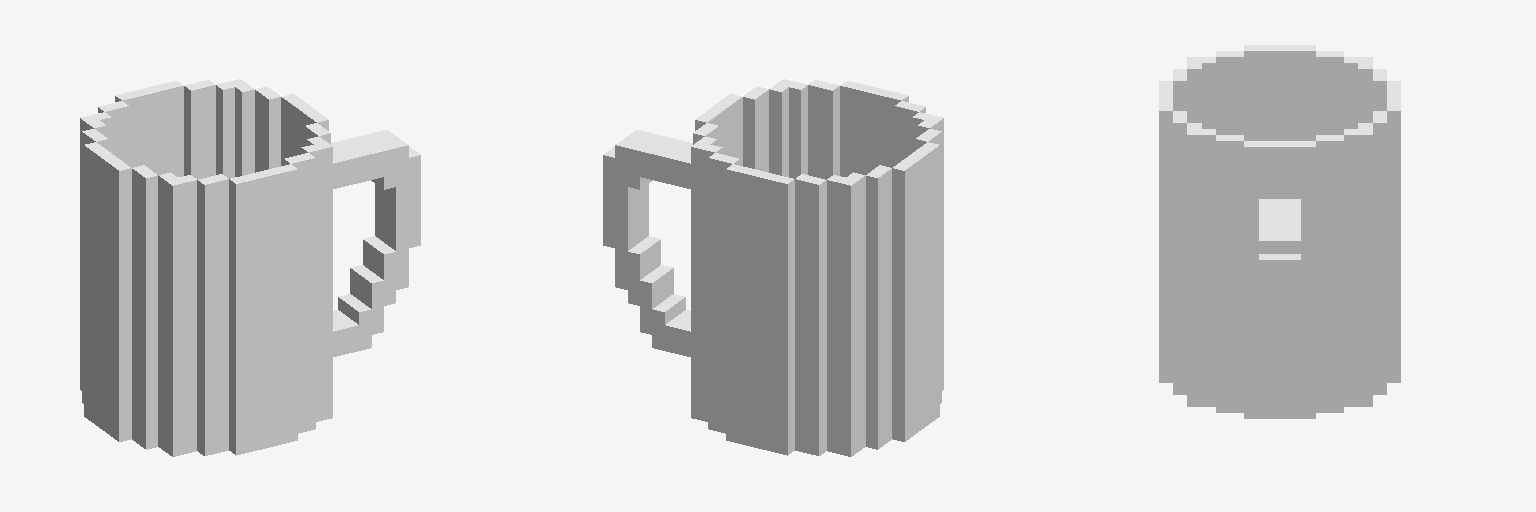
The picture shows the model from 3 angles: view 1: azimuth 30°, elevation 25°; view 2: azimuth 150°, elevation 25°; view 3: azimuth 270°, elevation 25°; orthographic projection.
Visible parts, largest first — view 1: object 1; view 2: object 1; view 3: object 1.
Boxes of the visible parts, x1=… form: object 1: x1=80, y1=79, x2=420, y2=456; object 1: x1=603, y1=79, x2=943, y2=456; object 1: x1=1159, y1=45, x2=1400, y2=418.
Size of the model in its own units: 2.5 by 2.1 by 1.7.
Materials: 1 (1 with a texture image).